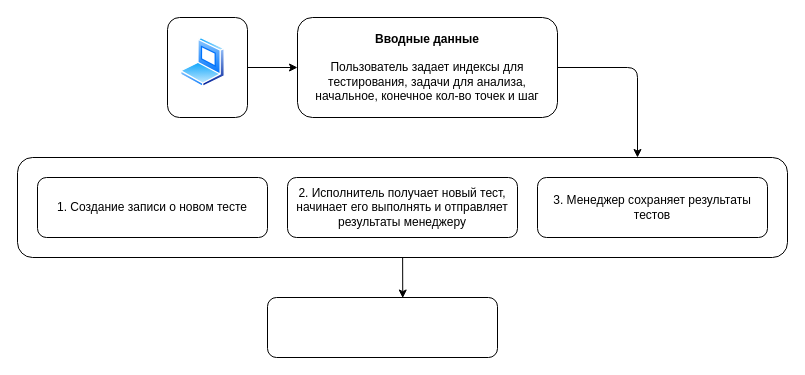
Some shapes in this 805 by 375 pixel diagram are drawn without their labels. Here are the shapes that lost their labels. From the top down, the centre of each, then its label:
At [202,62]: "GUI".
At [382,327]: "Пользователю отображаются результаты тестов".
